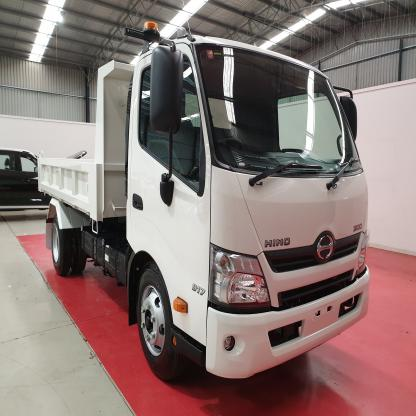dump_truck: (35, 22, 378, 381)
